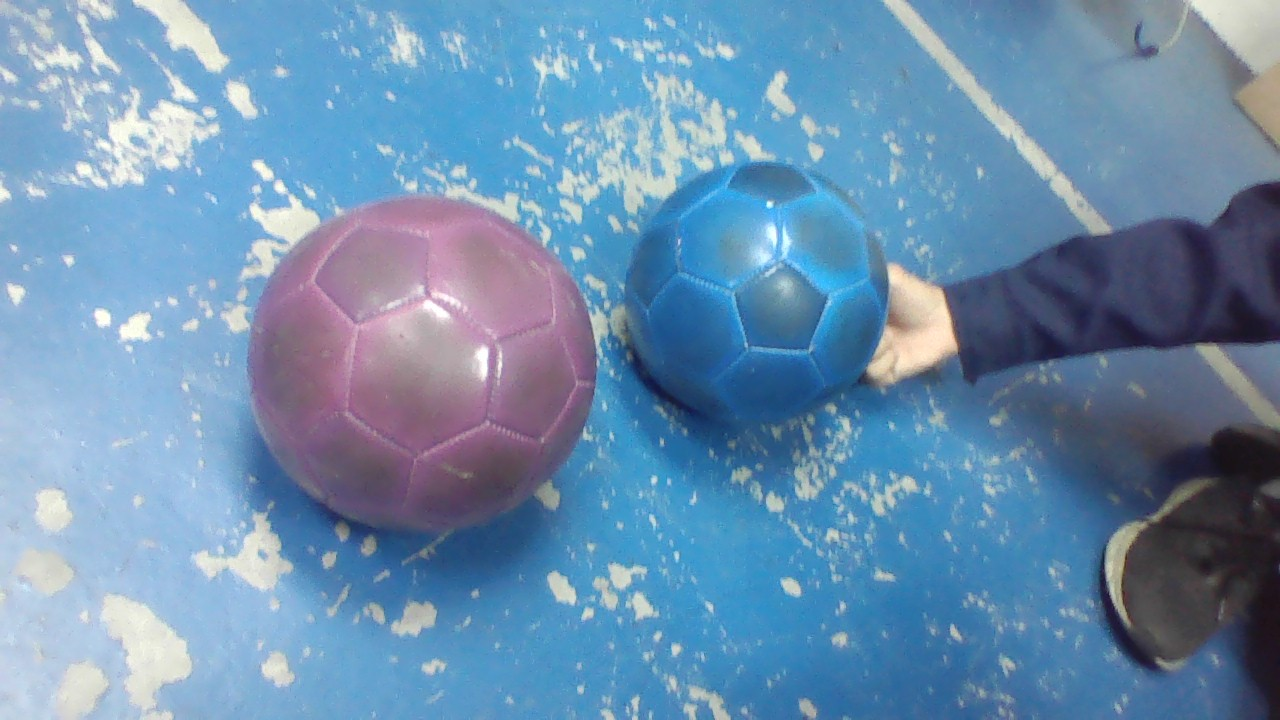Blue: (625, 163, 888, 422)
Purple: (250, 195, 597, 528)
